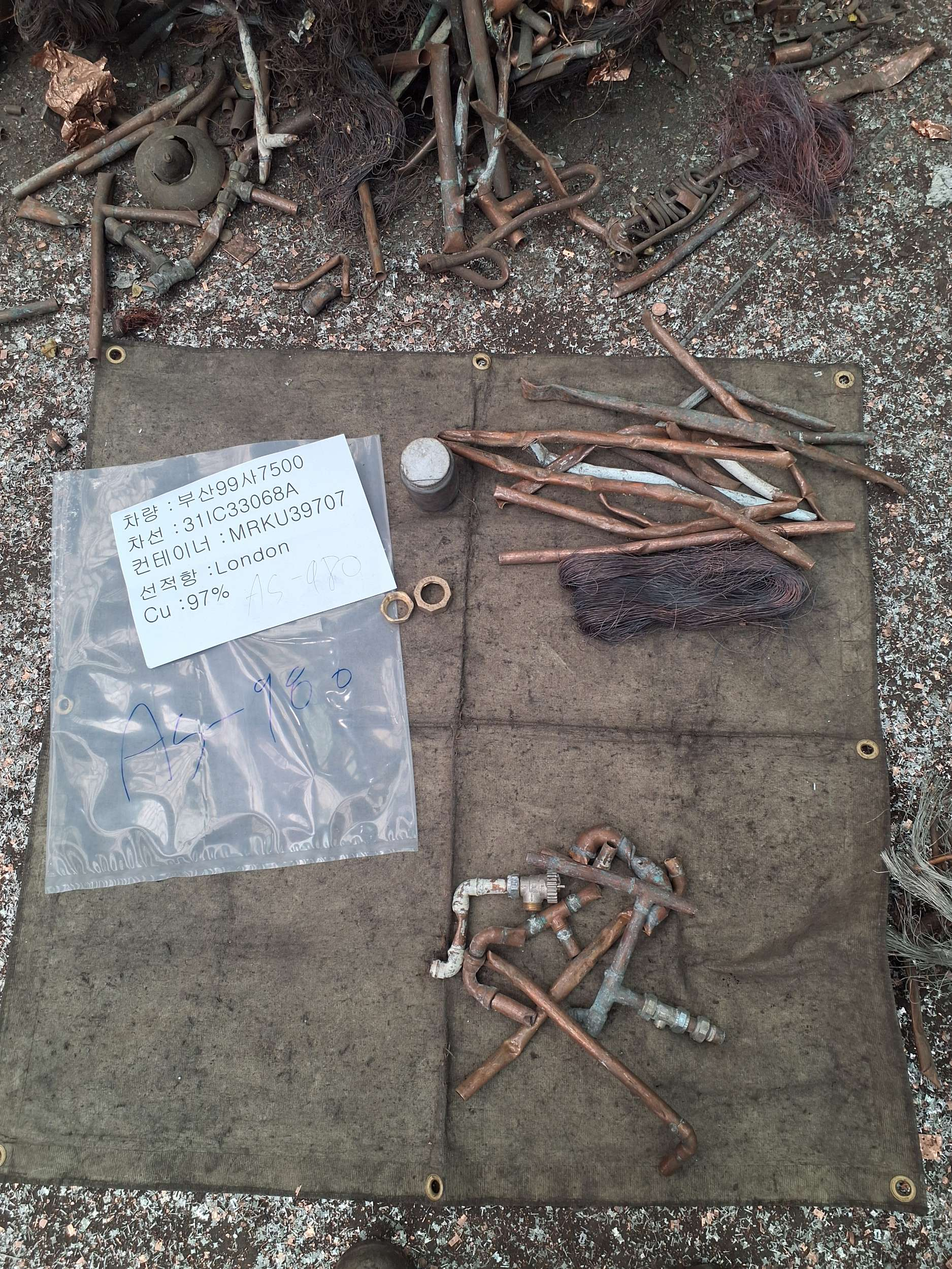Brass: (413, 576, 452, 616), (381, 590, 412, 623)
Burnt_Wire: (727, 64, 852, 231)
Clean_Copper_Tubes_98: (16, 196, 83, 230)
Copper_Elbows_92: (302, 280, 338, 316)
Copper_Plates_93: (44, 38, 117, 152)
